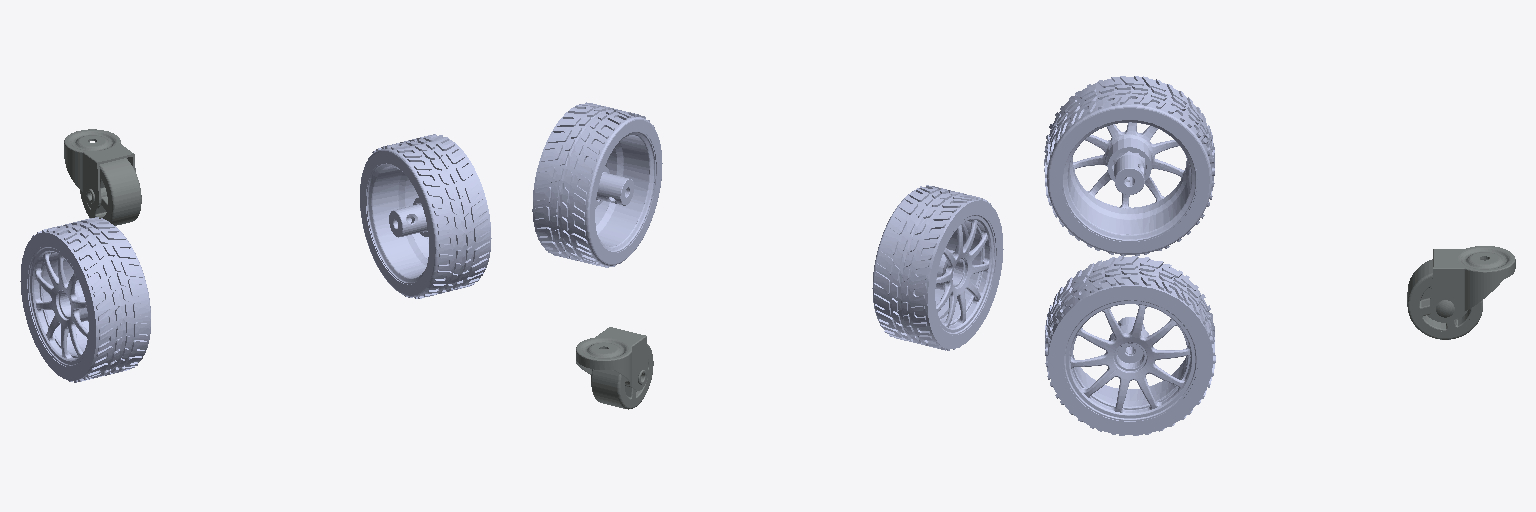
URDF robot description (edubot):
<?xml version="1.0" encoding="utf-8"?>
<!-- This URDF was automatically created by SolidWorks to URDF Exporter! Originally created by [author] ([email redacted]) 
     Commit Version: 1.5.1-0-g916b5db  Build Version: 1.5.7152.31018
     For more information, please see http://wiki.ros.org/sw_urdf_exporter -->
<robot name="edubot">
  <gazebo>
    <plugin name="gazebo_ros_control"
      filename="libgazebo_ros_control.so">
      <robotNamespace>/edubot</robotNamespace>
    </plugin>
  </gazebo>
  <transmission name="wheel_R_trans">
    <type>transmission_interface/SimpleTransmission</type>
    <joint name="wheel_R_joint">
      <hardwareInterface>hardware_interface/EffortJointInterface</hardwareInterface>
    </joint>
    <actuator name="wheel_R_motor">
      <mechanicalReduction>50</mechanicalReduction>
      <hardwareInterface>hardware_interface/EffortJointInterface</hardwareInterface>
    </actuator>
  </transmission>
  <transmission name="wheel_L_trans">
    <type>transmission_interface/SimpleTransmission</type>
    <joint name="wheel_L_joint">
      <hardwareInterface>hardware_interface/EffortJointInterface</hardwareInterface>
    </joint>
    <actuator name="wheel_L_motor">
      <mechanicalReduction>50</mechanicalReduction>
      <hardwareInterface>hardware_interface/EffortJointInterface</hardwareInterface>
    </actuator>
  </transmission>
  <link name="dummy_link"/>
  <link name="base_link">
    <inertial>
      <origin xyz="1.21409650717497 0.093469728767792 0.0651283442325704"
        rpy="0 0 0" />
      <mass value="0.807295940286987" />
      <inertia ixx="0.00124995328995185"
        ixy="5.48875259597702E-06"
        ixz="1.60843403892943E-08"
        iyy="0.000815822142561248"
        iyz="2.03312935816794E-09"
        izz="0.00202876555109556" />
    </inertial>
    <visual>
      <origin xyz="0 0 0"
        rpy="0 0 0" />
      <geometry>
        <mesh filename="package://edubot_description/meshes/base_link.STL" />
      </geometry>
      <material name="">
        <color rgba="1 1 1 0.3" />
      </material>
    </visual>
    <collision>
      <origin xyz="0 0 0"
        rpy="0 0 0" />
      <geometry>
        <mesh filename="package://edubot_description/meshes/base_link.STL" />
      </geometry>
    </collision>
  </link>
  <joint name="dummy_joint"
    type="fixed">
    <origin xyz="0 0 0"
      rpy="0 0 0" />
    <parent link="dummy_link"/>
    <child link="base_link"/>
  </joint>
  <link name="wheel_R">
    <inertial>
      <origin xyz="1.2972852539872E-05 -5.19111584591087E-06 -0.0128168135688715"
        rpy="0 0 0" />
      <mass value="0.0366200800005193" />
      <inertia ixx="1.54581104997609E-05"
        ixy="-5.54925536186205E-09"
        ixz="2.15559415344642E-11"
        iyy="1.54505378024002E-05"
        iyz="-1.00704269603853E-10"
        izz="2.68135787494564E-05" />
    </inertial>
    <visual>
      <origin xyz="0 0 0"
        rpy="0 0 0" />
      <geometry>
        <mesh filename="package://edubot_description/meshes/wheel_R.STL" />
      </geometry>
      <material name="">
        <color rgba="0.792156862745098 0.819607843137255 0.933333333333333 1" />
      </material>
    </visual>
    <collision>
      <origin xyz="0 0 0"
        rpy="0 0 0" />
      <geometry>
        <mesh filename="package://edubot_description/meshes/wheel_R.STL" />
      </geometry>
    </collision>
  </link>
  <joint name="wheel_R_joint"
    type="continuous">
    <origin xyz="1.1195 0.07884 0.041664"
      rpy="1.5708 0.548 -1.5708" />
    <parent link="base_link" />
    <child link="wheel_R" />
    <axis xyz="0 0 -1" />
  </joint>
  <link name="wheel_L">
    <inertial>
      <origin xyz="1.29544121257041E-05 -5.18750446731886E-06 0.0138895251558055"
        rpy="0 0 0" />
      <mass value="0.0366201141601765" />
      <inertia ixx="1.54580386273488E-05"
        ixy="-5.18673761155951E-09"
        ixz="2.39885787006489E-11"
        iyy="1.54506321292415E-05"
        iyz="-1.03057240556364E-10"
        izz="2.68135987300166E-05" />
    </inertial>
    <visual>
      <origin xyz="0 0 0"
        rpy="0 0 0" />
      <geometry>
        <mesh filename="package://edubot_description/meshes/wheel_L.STL" />
      </geometry>
      <material name="">
        <color rgba="0.792156862745098 0.819607843137255 0.933333333333333 1" />
      </material>
    </visual>
    <collision>
      <origin xyz="0 0 0"
        rpy="0 0 0" />
      <geometry>
        <mesh filename="package://edubot_description/meshes/wheel_L.STL" />
      </geometry>
    </collision>
  </link>
  <joint name="wheel_L_joint"
    type="continuous">
    <origin xyz="1.2819 0.078949 0.041664"
      rpy="-1.5708 -0.83493 -1.5616" />
    <parent link="base_link" />
    <child link="wheel_L" />
    <axis xyz="0 0 1" />
  </joint>
  <link name="caster_link_1">
    <inertial>
      <origin xyz="-2.49846896616113E-05 0.0169280354528207 -0.00654692929558215"
        rpy="0 0 0" />
      <mass value="0.0119271329150289" />
      <inertia ixx="1.30781634432988E-06"
        ixy="-7.08872735525014E-11"
        ixz="-3.11314380041412E-10"
        iyy="1.62492306701025E-06"
        iyz="-2.48045197313275E-07"
        izz="1.17405162095841E-06" />
    </inertial>
    <visual>
      <origin xyz="0 0 0"
        rpy="0 0 0" />
      <geometry>
        <mesh filename="package://edubot_description/meshes/caster_link_1.STL" />
      </geometry>
      <material name="">
        <color rgba="0.529411764705882 0.549019607843137 0.549019607843137 1" />
      </material>
    </visual>
    <collision>
      <origin xyz="0 0 0"
        rpy="0 0 0" />
      <geometry>
        <mesh filename="package://edubot_description/meshes/caster_link_1.STL" />
      </geometry>
    </collision>
  </link>
  <joint name="caster_link_1_joint"
    type="continuous">
    <origin xyz="1.2141 0.21445 0.017704"
      rpy="1.5708 0 3.1398" />
    <parent link="base_link" />
    <child link="caster_link_1" />
    <axis xyz="0 1 0" />
  </joint>
  <link name="caster_link_2">
    <inertial>
      <origin xyz="3.08716341379522E-09 5.55111512312578E-17 1.73472347597681E-17"
        rpy="0 0 0" />
      <mass value="0.056899671429687" />
      <inertia ixx="6.67981738753141E-06"
        ixy="9.92658094094261E-21"
        ixz="1.42254385843807E-21"
        iyy="4.25841522564986E-06"
        iyz="-2.64697796016969E-21"
        izz="4.25841522564987E-06" />
    </inertial>
    <visual>
      <origin xyz="0 0 0"
        rpy="0 0 0" />
      <geometry>
        <mesh filename="package://edubot_description/meshes/caster_link_2.STL" />
      </geometry>
      <material name="">
        <color rgba="0.529411764705882 0.549019607843137 0.549019607843137 1" />
      </material>
    </visual>
    <collision>
      <origin xyz="0 0 0"
        rpy="0 0 0" />
      <geometry>
        <mesh filename="package://edubot_description/meshes/caster_link_2.STL" />
      </geometry>
    </collision>
  </link>
  <joint name="caster_link_2_joint"
    type="continuous">
    <origin xyz="0 0.006 -0.015015"
      rpy="-1.8396 0 0" />
    <parent link="caster_link_1" />
    <child link="caster_link_2" />
    <axis xyz="1 0 0" />
  </joint>
</robot>

--- Render facts (derived) ---
Views: 3 orthographic renders of the robot side by side, from view 1: azimuth 30°, elevation 25°; view 2: azimuth 150°, elevation 25°; view 3: azimuth 270°, elevation 25°.
Robot: edubot — 6 links, 5 joints (4 continuous, 1 fixed); root link dummy_link; default pose: all joints at 0.
Visible links, largest first — view 1: wheel_L, wheel_R, caster_link_1, caster_link_2; view 2: wheel_R, wheel_L, caster_link_1, caster_link_2; view 3: wheel_L, wheel_R, caster_link_1, caster_link_2.
Link boxes in pixels (x1,y1,x2,y2): wheel_L: (360,134,491,298); wheel_R: (20,217,150,382); caster_link_1: (64,129,135,209); caster_link_2: (80,158,141,225); wheel_R: (872,185,1003,350); wheel_L: (532,102,662,267); caster_link_1: (576,327,647,390); caster_link_2: (591,344,653,409); wheel_L: (1045,256,1215,435); wheel_R: (1044,76,1214,255); caster_link_1: (1430,246,1515,322); caster_link_2: (1407,259,1482,339).
Bounding box of the posed robot: 0.1894 × 0.1799 × 0.065 m (x, y, z).
4 mesh visuals loaded from 5 distinct referenced files (4 binary STL); not drawn: 1 (reference not matched to a file when rendering).